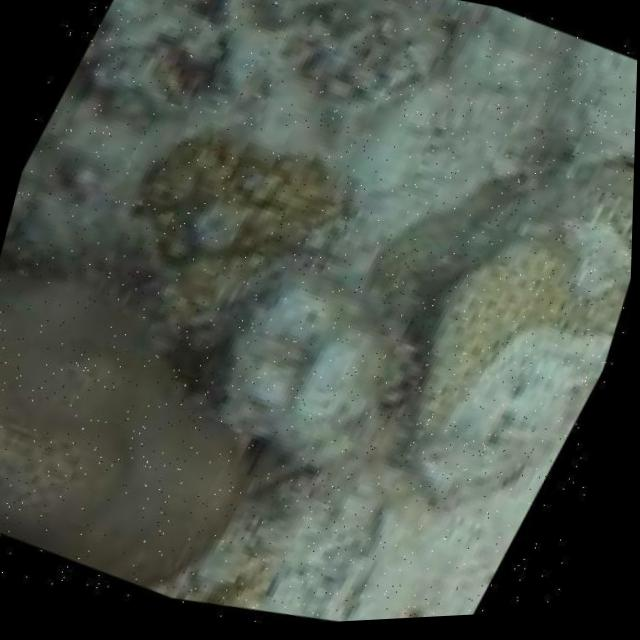Healthy Coral: (0, 222, 311, 630)
